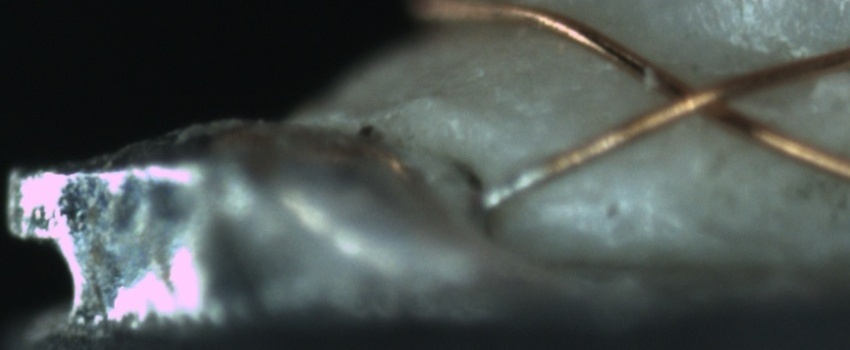CL: (634, 64, 768, 130)
TS: (484, 160, 547, 208)
